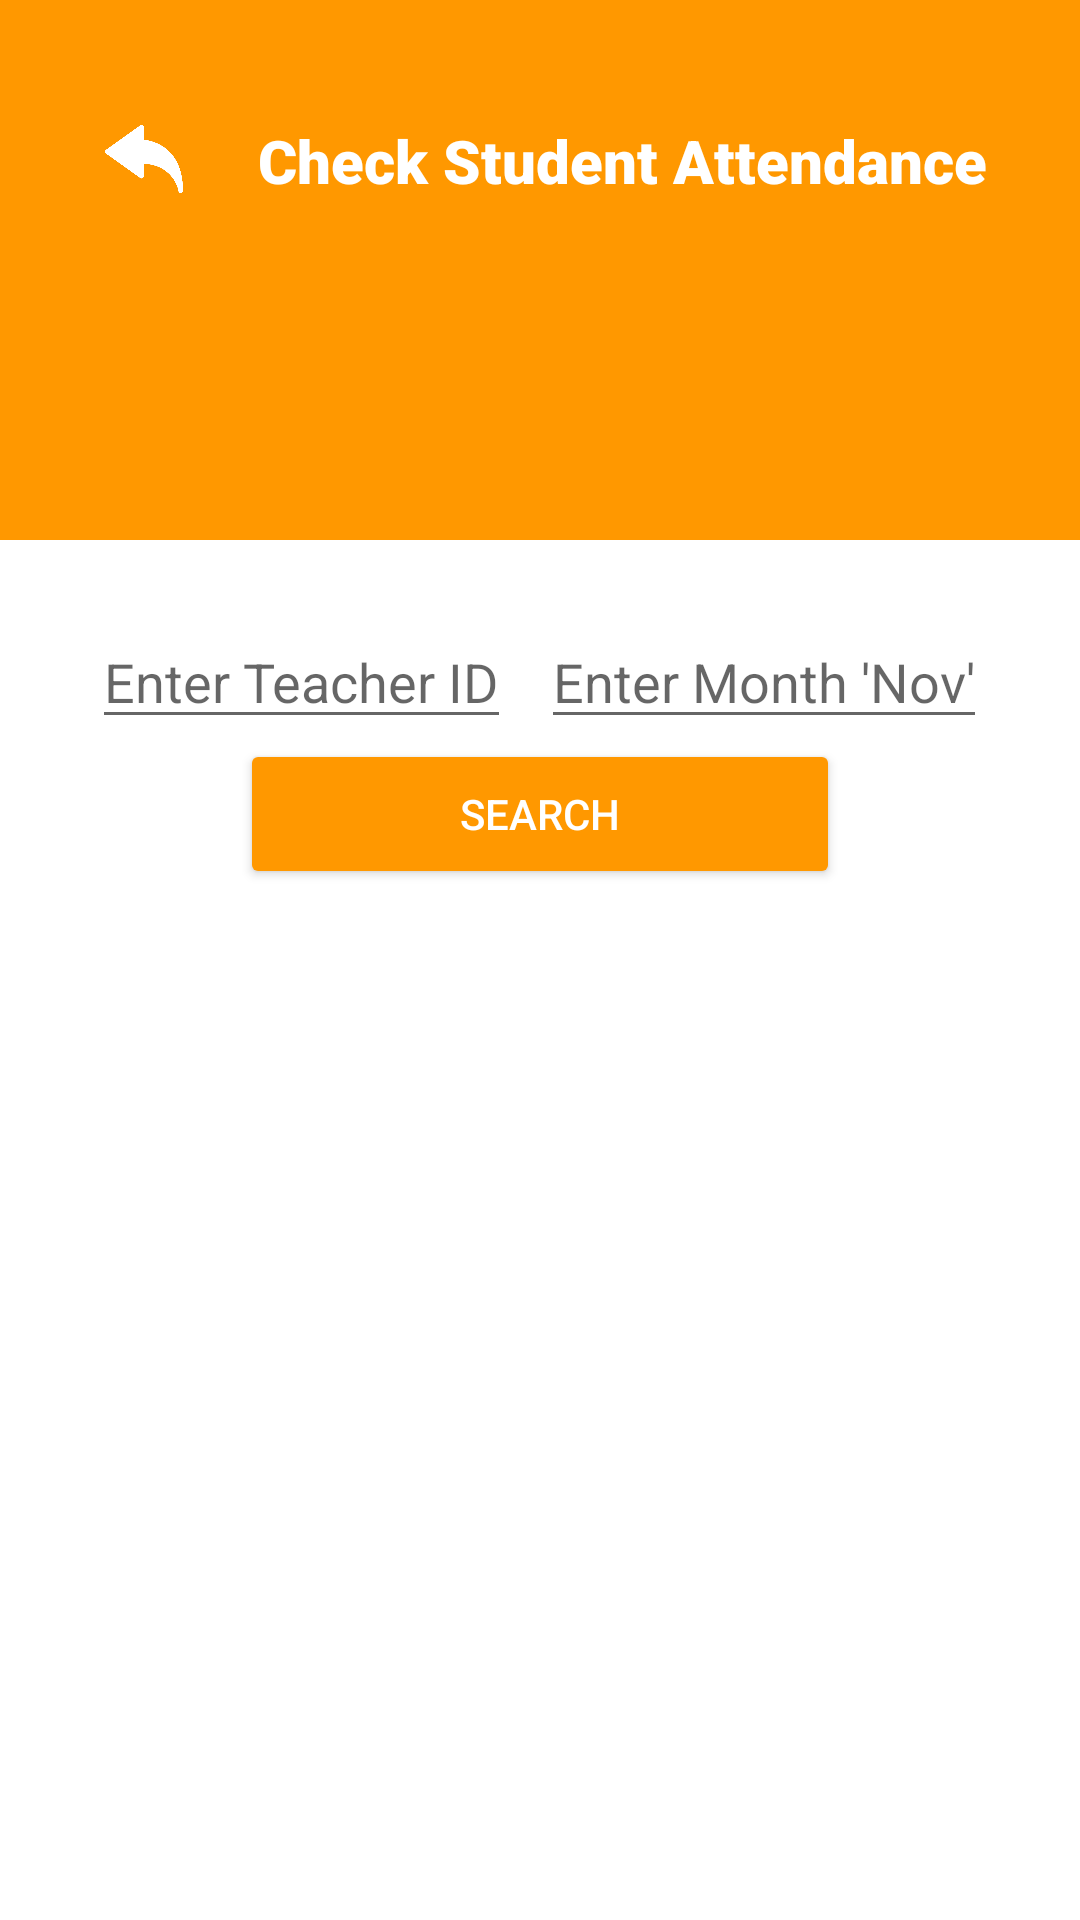

Icon click points for this 1080px×1920px phone screenshot, format point (x, y):
back: point (144, 159)
